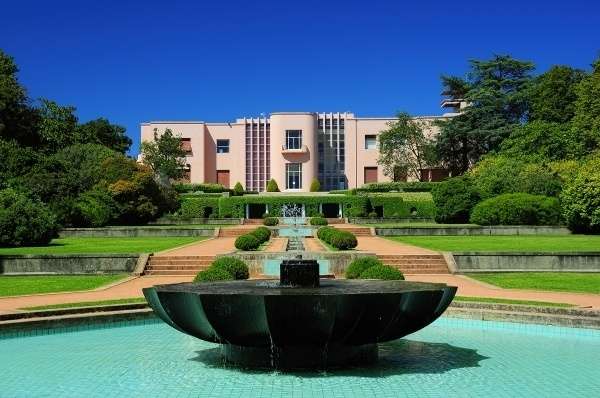serralves: (136, 84, 476, 193)
